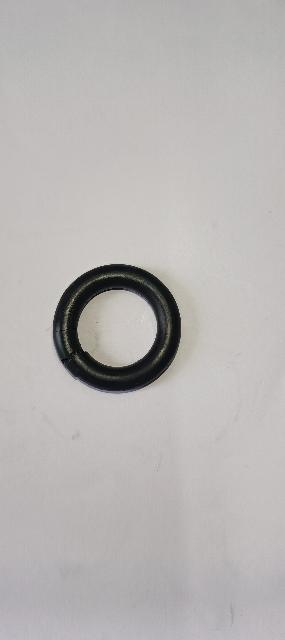crack: (61, 348, 84, 379), (61, 349, 84, 364), (61, 349, 83, 364)
scratch: (50, 326, 81, 337), (55, 325, 67, 337)
